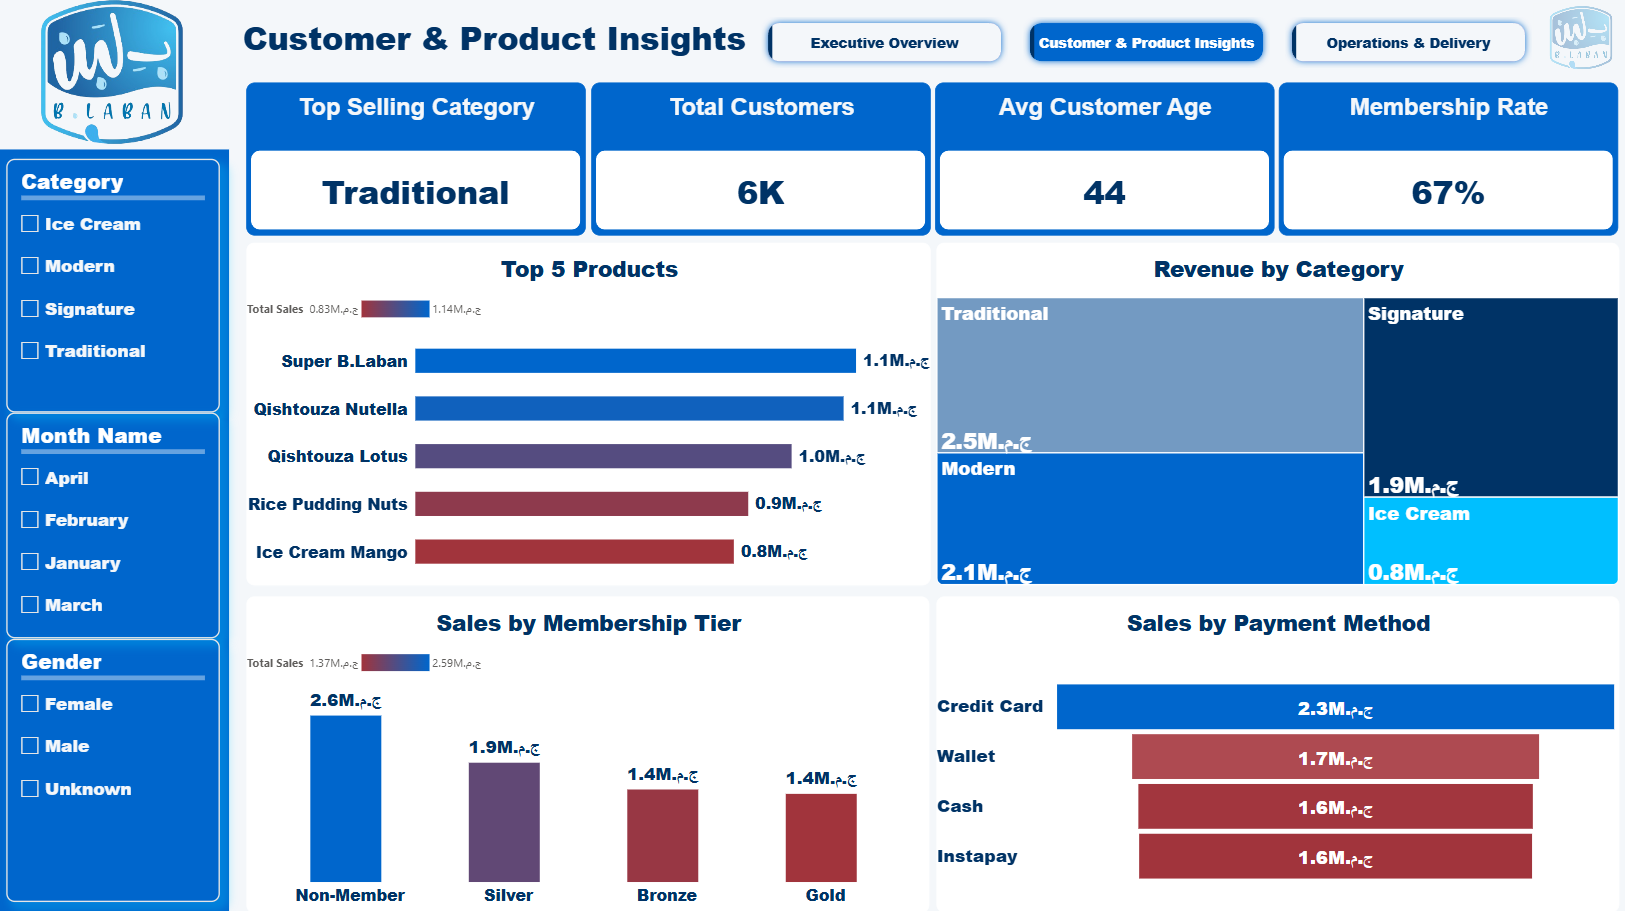

The dashboard page shown, as its layout file describes it:
{"tool":"powerbi","page":{"name":"Customer & Product Insights","canvas":[1920,1080],"ordinal":1},"visuals":[{"type":"shape","box":[0,181.4,275.6,898.3],"z":0},{"type":"image","box":[0,0,275.6,181.4],"z":1000},{"type":"image","box":[1808.7,10.5,111.6,80.2],"z":2000},{"type":"textbox","box":[275.6,19.2,624.4,73.3],"z":3000},{"type":"cardVisual","title":"Top Selling Category","fields":{"Data":["_All Measure.Top Selling Category"]},"box":[296.1,103,399.4,179.7],"z":4000},{"type":"cardVisual","title":"Total Customers","fields":{"Data":["_All Measure.Total Customers"]},"box":[700.7,103,399.4,179.7],"z":5000},{"type":"cardVisual","title":"Avg Customer Age","fields":{"Data":["_All Measure.Avg Customer Age"]},"box":[1105.4,103,399,179.7],"z":6000},{"type":"cardVisual","title":"Membership Rate","fields":{"Data":["_All Measure.Membership Rate"]},"box":[1510,103,399,179.7],"z":7000},{"type":"clusteredBarChart","title":"Top 5 Products","fields":{"Category":["blaban_cleaned_final.Product_Name"],"Y":["_All Measure.Total Sales"]},"box":[295.9,290.5,805.1,403.4],"z":8000},{"type":"treemap","title":"Revenue by Category","fields":{"Group":["blaban_cleaned_final.Category"],"Values":["_All Measure.Total Sales"]},"box":[1106.3,290.5,803.3,403.4],"z":9000},{"type":"clusteredColumnChart","title":"Sales by Membership Tier","fields":{"Category":["blaban_cleaned_final.Membership_Status"],"Y":["_All Measure.Total Sales"]},"box":[295.9,706.5,803.3,373],"z":10000},{"type":"slicer","fields":{"Values":["blaban_cleaned_final.Category"]},"box":[12.7,192.9,251.2,298.5],"z":11000},{"type":"slicer","fields":{"Values":["blaban_cleaned_final.Month Name"]},"box":[12.7,491.5,251.2,265.8],"z":12000},{"type":"slicer","fields":{"Values":["blaban_cleaned_final.Customer_Gender"]},"box":[12.7,757.2,251.2,309.4],"z":13000},{"type":"funnel","title":"Sales by Payment Method","fields":{"Category":["blaban_cleaned_final.Payment_Method"],"Y":["_All Measure.Total Sales"]},"box":[1106.3,706.5,803.3,372],"z":14000},{"type":"pageNavigator","box":[900.5,25.2,908.4,61.5],"z":14001}]}

Visuals, with their boxes in screenshot pixels (x1, y1, x2, y2), scaled from the page's 1920x1080 canvas onto the 1625x911 screenshot:
shape: locate(0, 153, 233, 910)
image: locate(0, 0, 233, 153)
image: locate(1531, 9, 1624, 77)
textbox: locate(233, 16, 762, 78)
"Top Selling Category" cardVisual: locate(251, 87, 589, 238)
"Total Customers" cardVisual: locate(593, 87, 931, 238)
"Avg Customer Age" cardVisual: locate(936, 87, 1273, 238)
"Membership Rate" cardVisual: locate(1278, 87, 1616, 238)
"Top 5 Products" clusteredBarChart: locate(250, 245, 932, 585)
"Revenue by Category" treemap: locate(936, 245, 1616, 585)
"Sales by Membership Tier" clusteredColumnChart: locate(250, 596, 930, 910)
slicer - blaban_cleaned_final.Category: locate(11, 163, 223, 415)
slicer - blaban_cleaned_final.Month Name: locate(11, 415, 223, 639)
slicer - blaban_cleaned_final.Customer_Gender: locate(11, 639, 223, 900)
"Sales by Payment Method" funnel: locate(936, 596, 1616, 910)
pageNavigator: locate(762, 21, 1531, 73)
